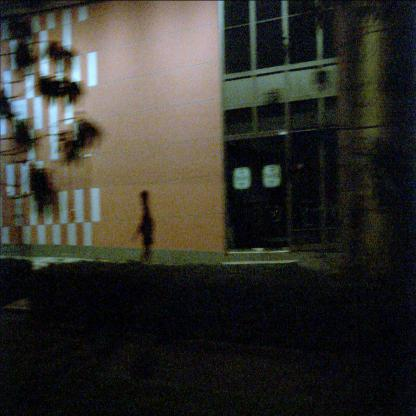human-pedestrian-adult: (130, 191, 156, 298)
